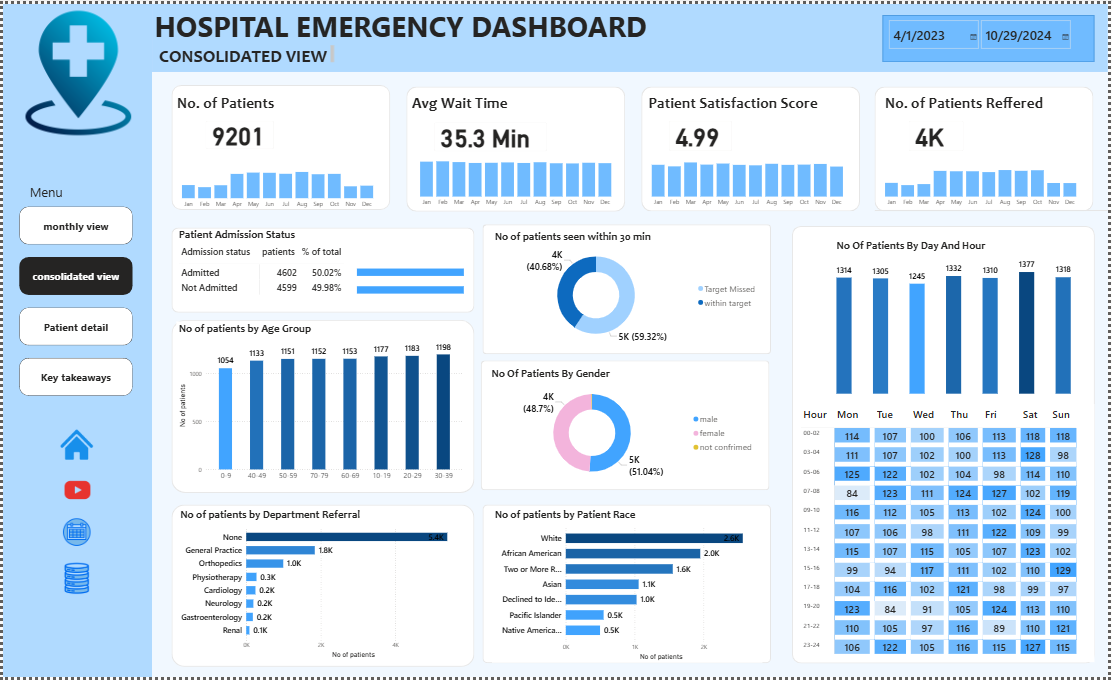

The page's visual inventory and layout, read from the dashboard file:
{"tool":"powerbi","page":{"name":"consolidated view","canvas":[2297,1400],"ordinal":1},"visuals":[{"type":"shape","box":[1812.6,171.8,455,259.4],"z":0},{"type":"shape","box":[352.1,169.6,455,260],"z":1000},{"type":"shape","box":[0,0,310,1401.6],"z":2000},{"type":"shape","box":[310,0,1987.8,141.5],"z":3000},{"type":"textbox","box":[310,0,1057.9,97.7],"z":4000},{"type":"cardVisual","fields":{"Data":["Hospital ER_Data.No of patients"]},"box":[403.3,226.7,176.7,93.3],"z":5000},{"type":"textbox","box":[320,80,373.3,50],"z":6000},{"type":"slicer","fields":{"Values":["Date table.Date"]},"box":[1830,23.3,440,96.7],"z":7000},{"type":"textbox","box":[358,182,304,60],"z":8000},{"type":"columnChart","fields":{"Category":["Date table.Month name"],"Y":["Hospital ER_Data.No of patients"]},"box":[354.5,308.8,435,125],"z":9000},{"type":"shape","box":[839,171.3,455,260],"z":10000},{"type":"cardVisual","fields":{"Data":["Hospital ER_Data.Average Waittime"]},"box":[879.4,229.1,269.5,94.3],"z":11000},{"type":"textbox","box":[844,182,304,60],"z":12000},{"type":"columnChart","fields":{"Category":["Date table.Month name"],"Y":["Avg(Hospital ER_Data.Patient Waittime)"]},"box":[849.8,305.5,435,125],"z":13000},{"type":"shape","box":[1326,171.8,455,259.4],"z":14000},{"type":"cardVisual","fields":{"Data":["Hospital ER_Data.satisfaction score"]},"box":[1367.9,225.7,165.1,97.7],"z":15000},{"type":"textbox","box":[1338.6,181.4,390,60],"z":16000},{"type":"shape","box":[1812.6,427.9,485.2,3.4],"z":17000},{"type":"cardVisual","fields":{"Data":["Hospital ER_Data.no of patients reffered"]},"box":[1866.5,225.7,148.2,97.7],"z":18000},{"type":"textbox","box":[1829.5,181.9,367.2,60.6],"z":19000},{"type":"columnChart","fields":{"Category":["Date table.Month name"],"Y":["Hospital ER_Data.no of patients reffered"]},"box":[1816.7,305.5,435,125],"z":20000},{"type":"shape","box":[350.4,464.9,630,177],"z":21000},{"type":"pivotTable","title":"Patient Admission Status","fields":{"Rows":["Hospital ER_Data.Admission status"],"Values":["Hospital ER_Data.No of patients1","Hospital ER_Data.No of patients"]},"box":[362,464,600,152],"z":22000},{"type":"barChart","fields":{"Category":["Hospital ER_Data.Admission status"],"Y":["Hospital ER_Data.No of patients"]},"box":[732.2,517.8,300,110],"z":23000},{"type":"shape","box":[351.1,655.6,630,360],"z":24000},{"type":"clusteredColumnChart","fields":{"Category":["Hospital ER_Data.Age Group"],"Y":["Hospital ER_Data.No of patients"]},"box":[361.7,660,601.7,341.7],"z":25000},{"type":"shape","box":[350,1040,630,337.5],"z":26000},{"type":"clusteredBarChart","fields":{"Category":["Hospital ER_Data.Department Referral"],"Y":["Hospital ER_Data.No of patients"]},"box":[362.2,1048.9,600,318.9],"z":27000},{"type":"shape","box":[996.7,458.3,600,270],"z":28000},{"type":"donutChart","title":"No of patients seen within 30 min","fields":{"Category":["Hospital ER_Data.wait time status"],"Y":["Hospital ER_Data.No of patients"]},"box":[1016.7,470,561.7,246.7],"z":29000},{"type":"shape","box":[993.3,741.7,600,270],"z":30000},{"type":"donutChart","title":"No Of Patients By Gender","fields":{"Y":["Hospital ER_Data.No of patients"],"Category":["Hospital ER_Data.Patient Gender"]},"box":[1012.3,753.7,561.7,246.7],"z":31000},{"type":"shape","box":[1388.3,1548.3,600,270],"z":32000},{"type":"shape","box":[996.7,1040,600,330],"z":33000},{"type":"clusteredBarChart","fields":{"Y":["Hospital ER_Data.No of patients"],"Category":["Hospital ER_Data.Patient Race"]},"box":[1016,1048,562,322],"z":34000},{"type":"shape","box":[1640,460,630,910],"z":35000},{"type":"pivotTable","fields":{"Rows":["Hospital ER_Data.Waittime Interval"],"Columns":["Date table.day name"],"Values":["Hospital ER_Data.No of patients"]},"box":[1654,832,614,536],"z":36000},{"type":"columnChart","title":"No Of Patients By Day And Hour","fields":{"Category":["Date table.day name"],"Y":["Hospital ER_Data.No of patients"]},"box":[1728,490,500,328],"z":37000},{"type":"columnChart","fields":{"Category":["Date table.Month name"],"Y":["Hospital ER_Data.satisfaction score"]},"box":[1330.8,305.7,435,125],"z":38000},{"type":"pageNavigator","box":[33.3,420,236.7,396.7],"z":39000},{"type":"image","box":[91,865.9,124.7,101.1],"z":40000},{"type":"image","box":[128,963.6,53.9,94.3],"z":41000},{"type":"image","box":[124.7,1057.9,57.3,80.9],"z":42000},{"type":"image","box":[117.9,1138.8,70.8,111.2],"z":43000},{"type":"textbox","box":[50,366.7,103.3,46.7],"z":44000},{"type":"image","box":[6.7,13.3,300,260],"z":45000}]}

Visuals, with their boxes in screenshot pixels (x1, y1, x2, y2), scaled from the page's 2297x1400 canvas onto the 1112x680 screenshot:
shape: x1=877, y1=83, x2=1098, y2=209
shape: x1=170, y1=82, x2=391, y2=209
shape: x1=0, y1=0, x2=150, y2=679
shape: x1=150, y1=0, x2=1111, y2=69
textbox: x1=150, y1=0, x2=662, y2=47
cardVisual - Hospital ER_Data.No of patients: x1=195, y1=110, x2=281, y2=155
textbox: x1=155, y1=39, x2=336, y2=63
slicer - Date table.Date: x1=886, y1=11, x2=1099, y2=58
textbox: x1=173, y1=88, x2=320, y2=118
columnChart - Date table.Month name x Hospital ER_Data.No of patients: x1=172, y1=150, x2=382, y2=211
shape: x1=406, y1=83, x2=626, y2=209
cardVisual - Hospital ER_Data.Average Waittime: x1=426, y1=111, x2=556, y2=157
textbox: x1=409, y1=88, x2=556, y2=118
columnChart - Date table.Month name x Avg(Hospital ER_Data.Patient Waittime): x1=411, y1=148, x2=622, y2=209
shape: x1=642, y1=83, x2=862, y2=209
cardVisual - Hospital ER_Data.satisfaction score: x1=662, y1=110, x2=742, y2=157
textbox: x1=648, y1=88, x2=837, y2=117
shape: x1=877, y1=208, x2=1111, y2=209
cardVisual - Hospital ER_Data.no of patients reffered: x1=904, y1=110, x2=975, y2=157
textbox: x1=886, y1=88, x2=1063, y2=118
columnChart - Date table.Month name x Hospital ER_Data.no of patients reffered: x1=879, y1=148, x2=1090, y2=209
shape: x1=170, y1=226, x2=475, y2=312
"Patient Admission Status" pivotTable: x1=175, y1=225, x2=466, y2=299
barChart - Hospital ER_Data.Admission status x Hospital ER_Data.No of patients: x1=354, y1=252, x2=500, y2=305
shape: x1=170, y1=318, x2=475, y2=493
clusteredColumnChart - Hospital ER_Data.Age Group x Hospital ER_Data.No of patients: x1=175, y1=321, x2=466, y2=487
shape: x1=169, y1=505, x2=474, y2=669
clusteredBarChart - Hospital ER_Data.Department Referral x Hospital ER_Data.No of patients: x1=175, y1=509, x2=466, y2=664
shape: x1=483, y1=223, x2=773, y2=354
"No of patients seen within 30 min" donutChart: x1=492, y1=228, x2=764, y2=348
shape: x1=481, y1=360, x2=771, y2=491
"No Of Patients By Gender" donutChart: x1=490, y1=366, x2=762, y2=486
shape: x1=483, y1=505, x2=773, y2=665
clusteredBarChart - Hospital ER_Data.No of patients x Hospital ER_Data.Patient Race: x1=492, y1=509, x2=764, y2=665
shape: x1=794, y1=223, x2=1099, y2=665
pivotTable - Hospital ER_Data.Waittime Interval x Date table.day name: x1=801, y1=404, x2=1098, y2=664
"No Of Patients By Day And Hour" columnChart: x1=837, y1=238, x2=1079, y2=397
columnChart - Date table.Month name x Hospital ER_Data.satisfaction score: x1=644, y1=148, x2=855, y2=209
pageNavigator: x1=16, y1=204, x2=131, y2=397
image: x1=44, y1=421, x2=104, y2=470
image: x1=62, y1=468, x2=88, y2=514
image: x1=60, y1=514, x2=88, y2=553
image: x1=57, y1=553, x2=91, y2=607
textbox: x1=24, y1=178, x2=74, y2=201
image: x1=3, y1=6, x2=148, y2=133
